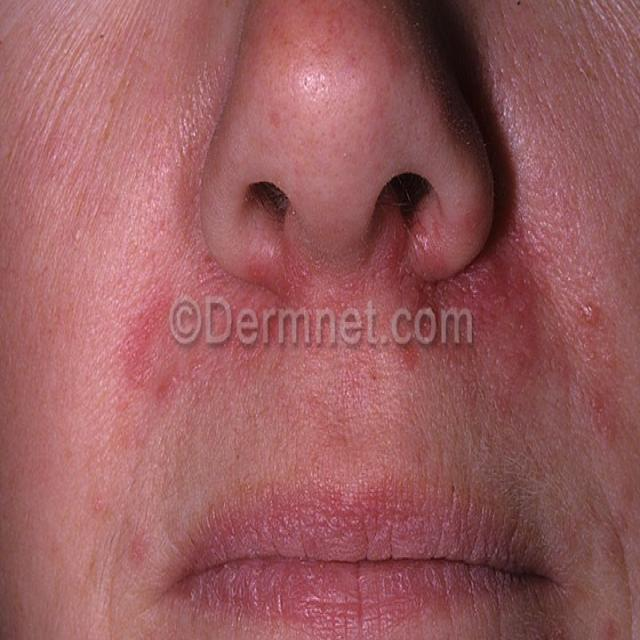Dry-Skin: (7, 1, 170, 224), (548, 417, 640, 639), (97, 415, 148, 637)
